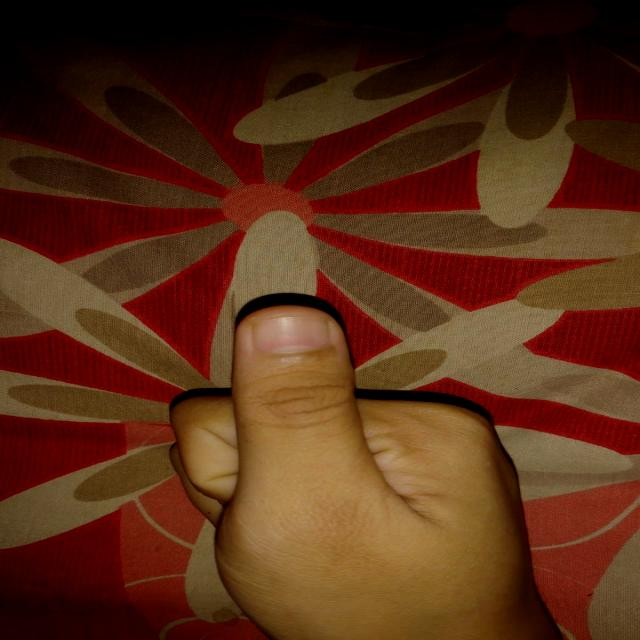sehat: (252, 318, 333, 355)
